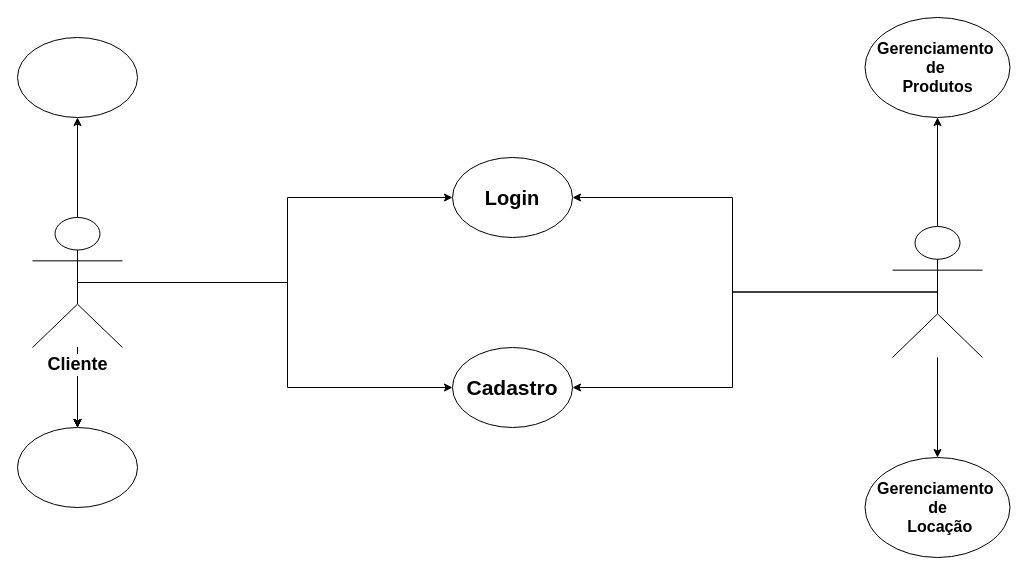
The diagram is 1028 pixels wide and 575 high, and some of its shapes have lost their labels. The centre of each missing label's shape, as x and y in pixels:
Administrador: the point at 937,292
Locação: the point at 77,467
Pagamento: the point at 77,77
